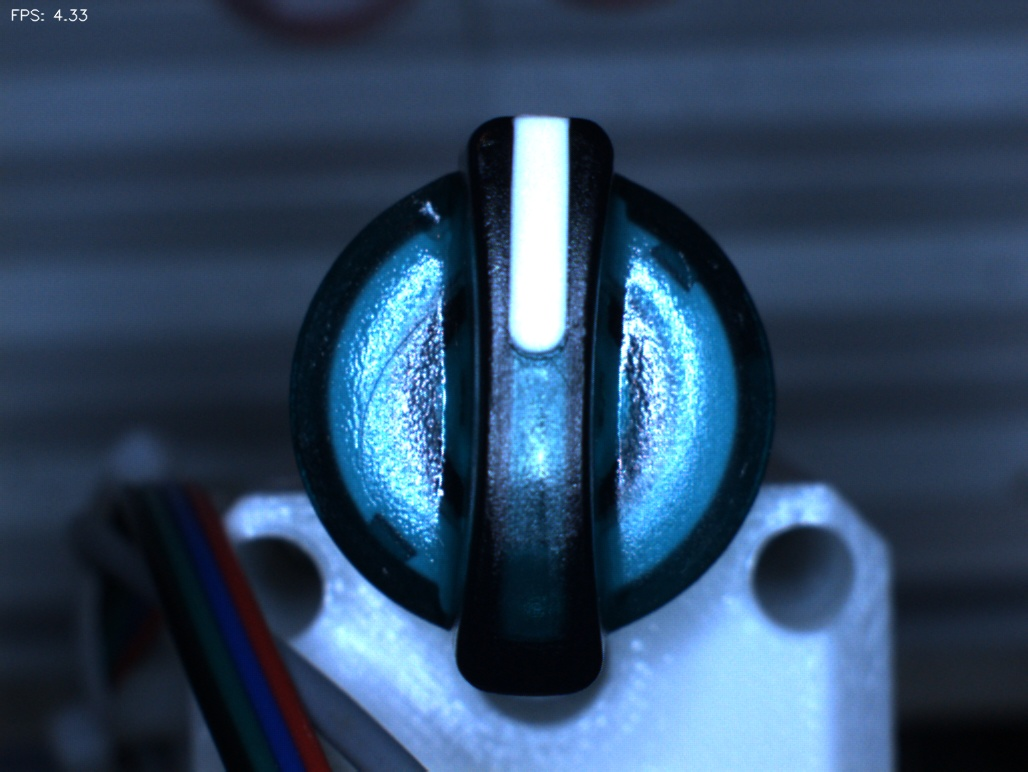Choc: (390, 173, 466, 249)
